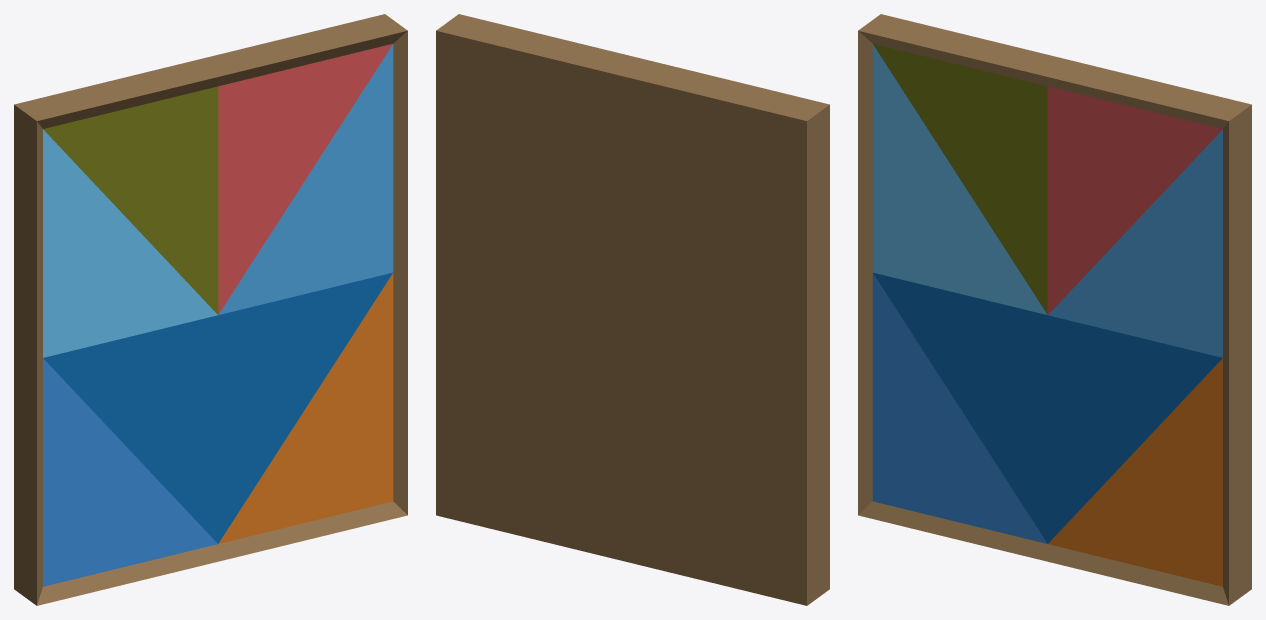
The model's file is Accesories_Frame_G.glb.
The picture shows the model from 3 angles, left to right: view 1: azimuth 30°, elevation 25°; view 2: azimuth 150°, elevation 25°; view 3: azimuth 330°, elevation 25°; orthographic projection.
Visible parts, largest first — view 1: Accesories_Frame_G; view 2: Accesories_Frame_G; view 3: Accesories_Frame_G.
Boxes of the visible parts, bbox=[...] form: Accesories_Frame_G: bbox=[14, 14, 407, 605]; Accesories_Frame_G: bbox=[436, 14, 829, 605]; Accesories_Frame_G: bbox=[858, 14, 1251, 605].
Size of the model in its own units: 0.3999 by 0.4993 by 0.0426.
Materials: 1 (1 with a texture image).
